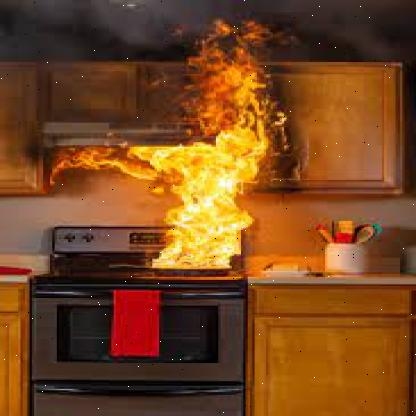fire: (40, 21, 296, 273)
smoke: (0, 0, 416, 148)
